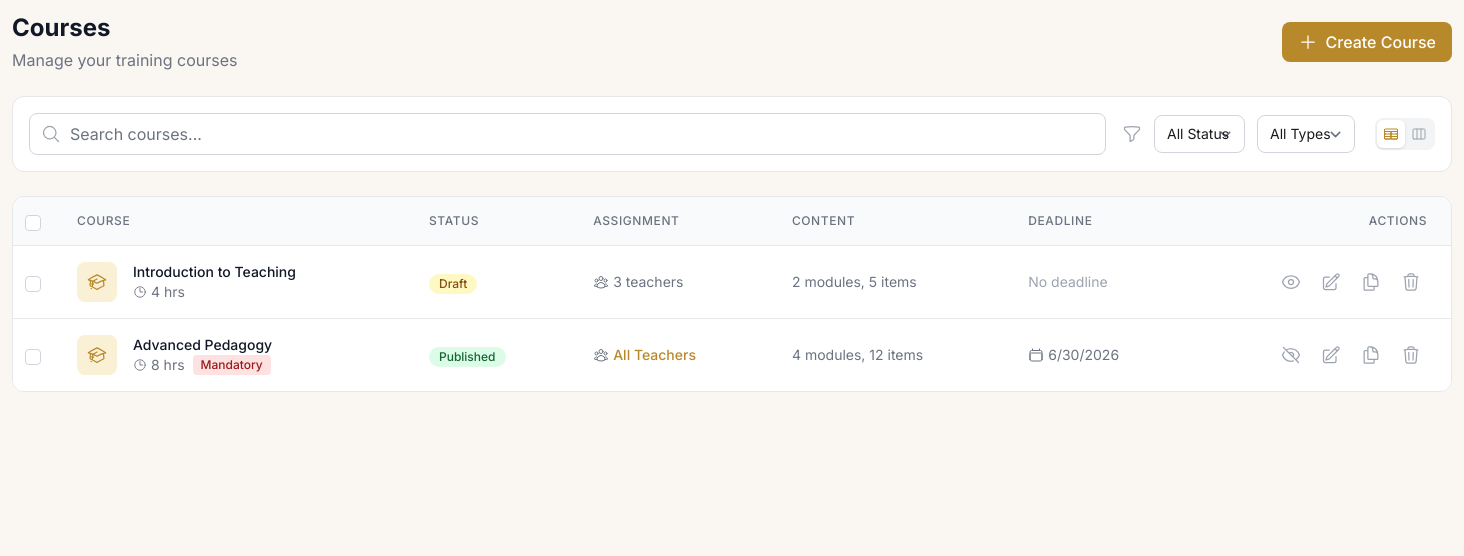
Test: CoursesPage › view toggle › switching back to table view restores table column headers
Expected: the text "Introduction to Teaching" is shown, [133,262,296,282]
Click the button titled "Board view": coordinates (1419, 134) [1405,120,1433,148]
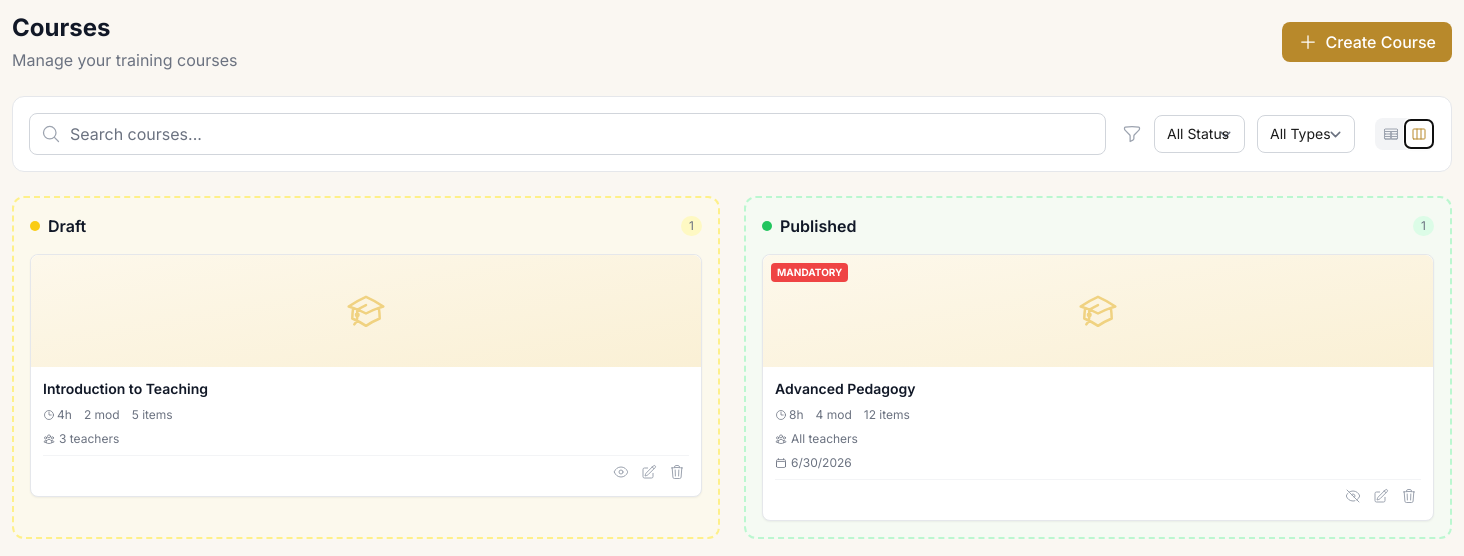
Expected: the heading "Draft" is shown, [48,214,86,238]
Click the button titled "Table view": coordinates (1391, 134) [1377,120,1405,148]
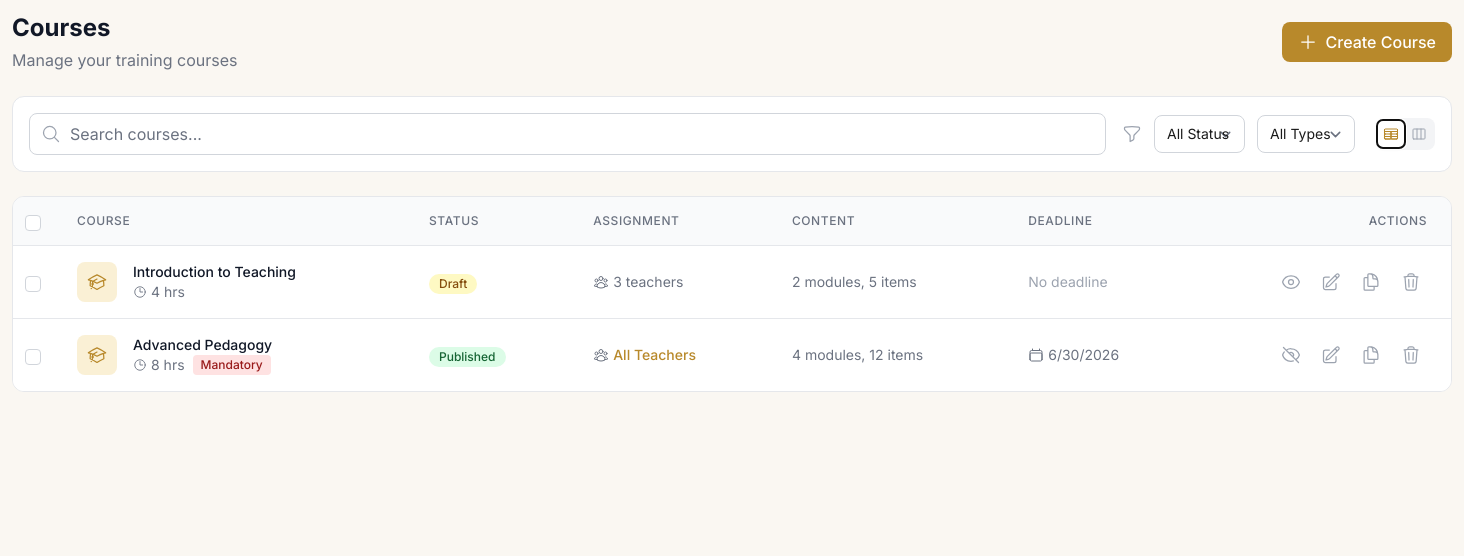
Now the column heading "Course" is shown, box [53,197,405,246]
